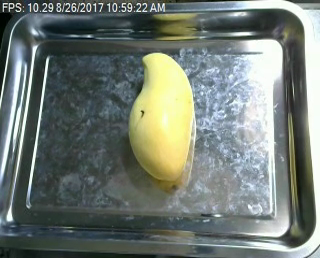Mango: (125, 49, 203, 187)
